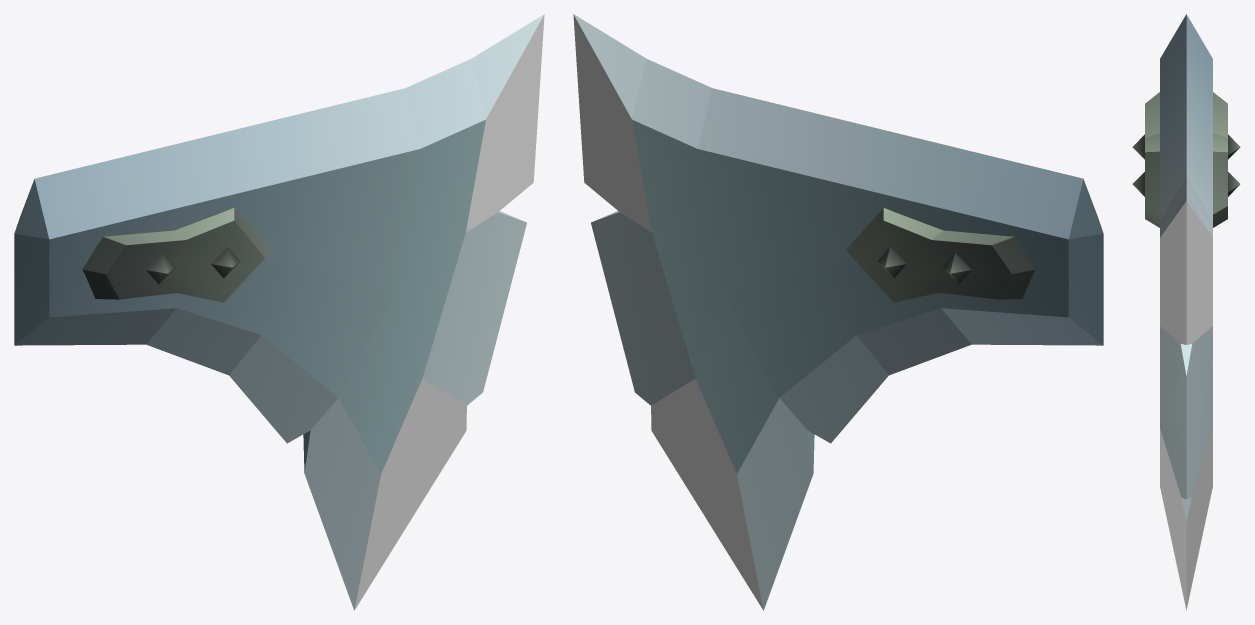
File: axe-head.fbx
3 views of the same model, side by side, from view 1: azimuth 30°, elevation 25°; view 2: azimuth 150°, elevation 25°; view 3: azimuth 270°, elevation 25° (orthographic). The views are drawn at different scales.
Visible parts, largest first — view 1: axe-head; view 2: axe-head; view 3: axe-head.
Part boxes in pixels (box(x1,y1,x2,y2)): axe-head: box(14, 14, 544, 610); axe-head: box(573, 14, 1103, 610); axe-head: box(1132, 14, 1240, 610).
Bounding box in the file's own units: 44.56 × 44.22 × 8.79.
